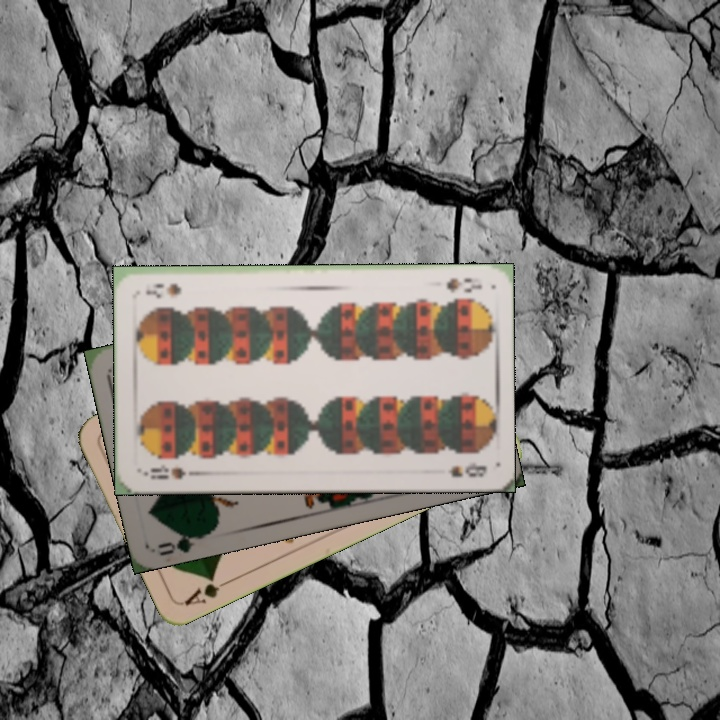GA: (181, 572, 236, 609)
GO: (153, 527, 211, 559)
S8: (139, 460, 198, 482), (443, 274, 484, 295)
